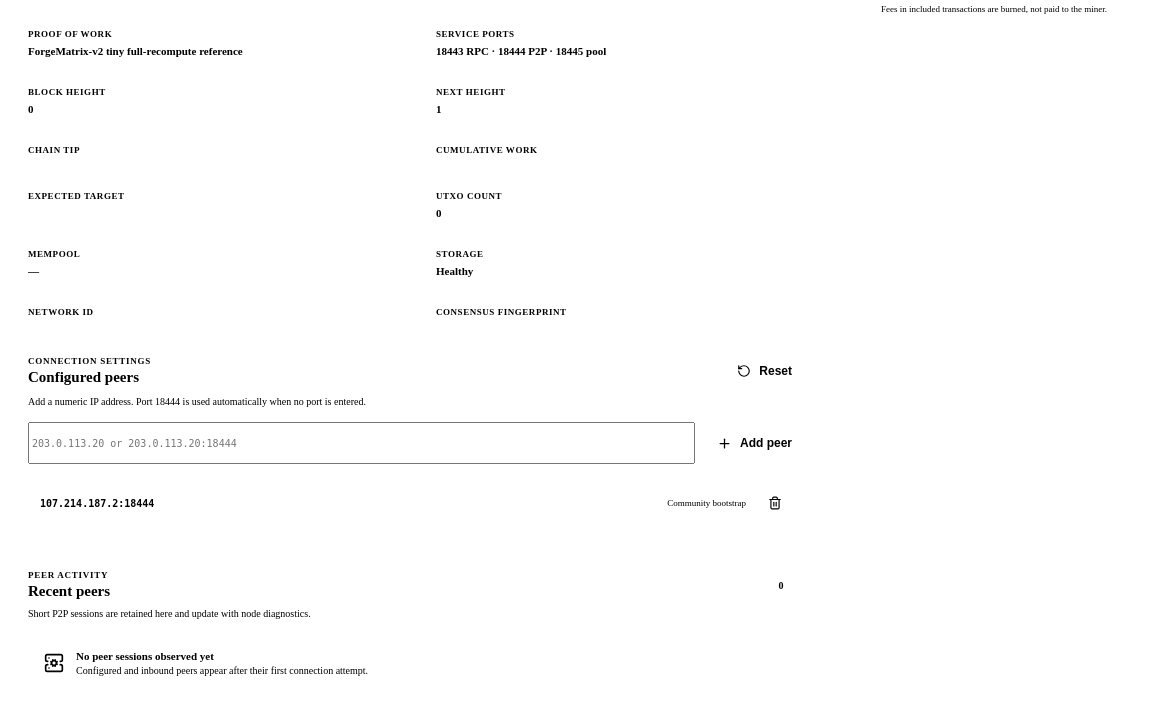
it: NetworkView › adds a peer from a plain IP address and applies it immediately
(page scrolled)
Type "192.168.1.20" into the field with placeholder "203.0.113.20 or 203.0.113.20:18444" at x=362, y=443, box [28,422,695,464]
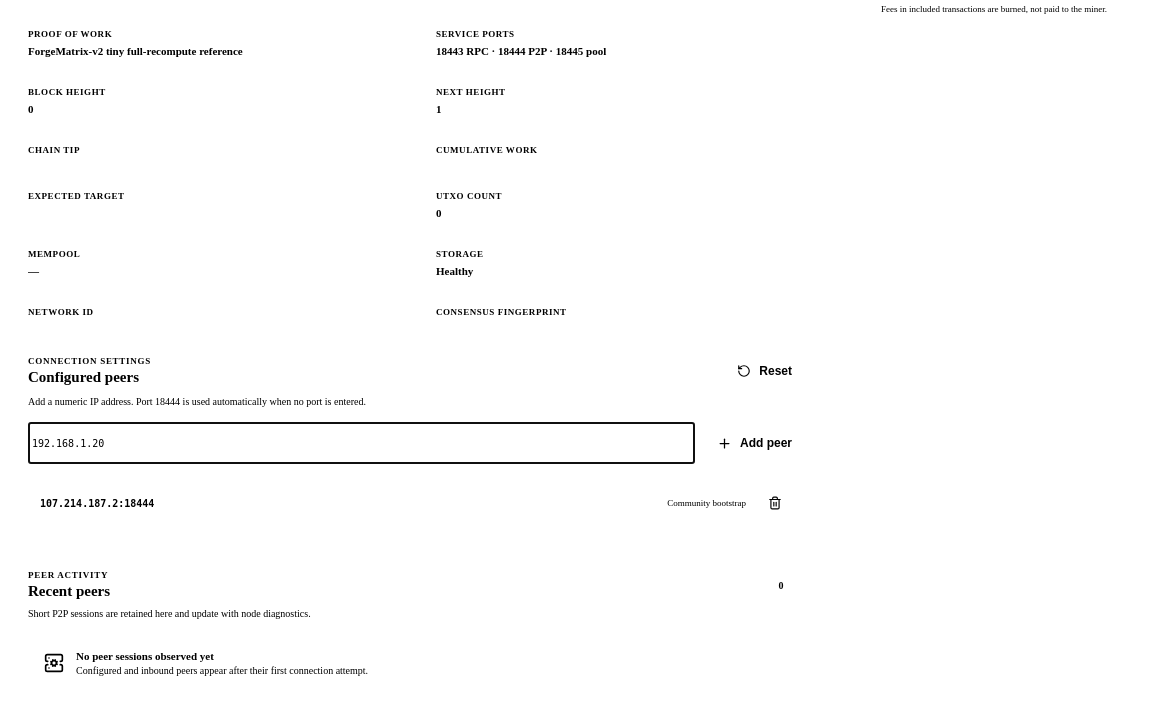
Click the button "Add peer" at x=754, y=443, box [705,422,804,464]
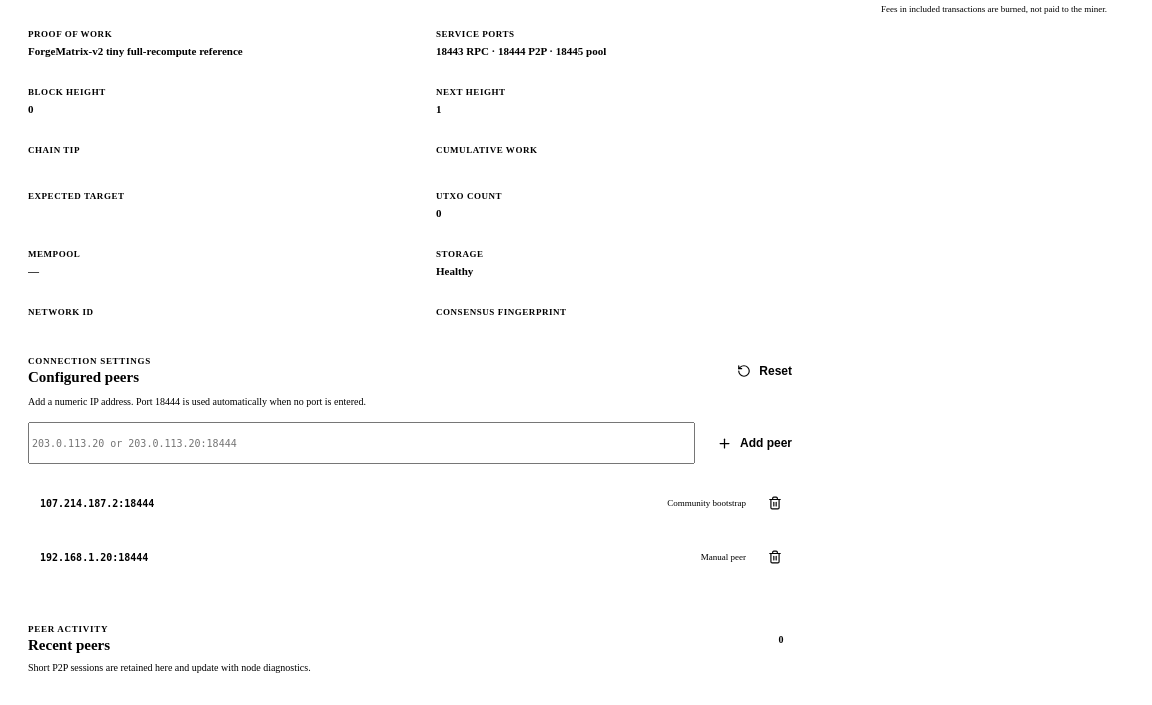
Now the text "192.168.1.20:18444" is shown, box [40,552,148,562]
